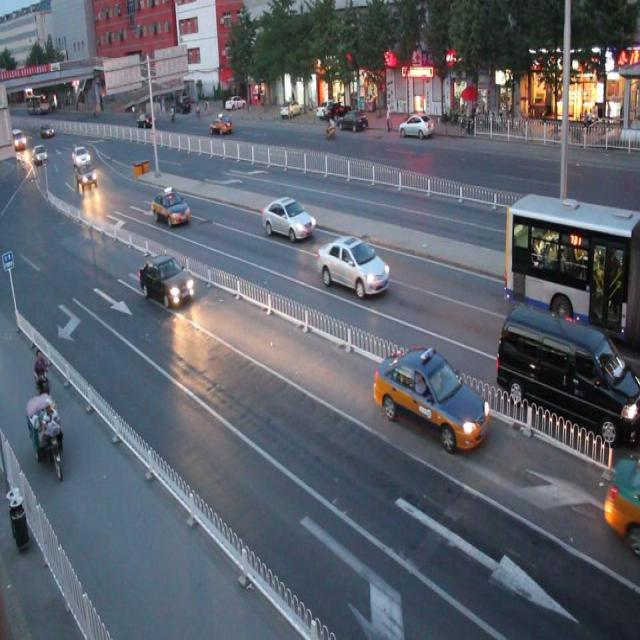car: (372, 344, 488, 450), (316, 235, 389, 296), (602, 449, 640, 545), (138, 253, 193, 305), (261, 196, 314, 239), (152, 186, 190, 229)
truck: (498, 306, 640, 444)
van: (504, 193, 640, 346)
